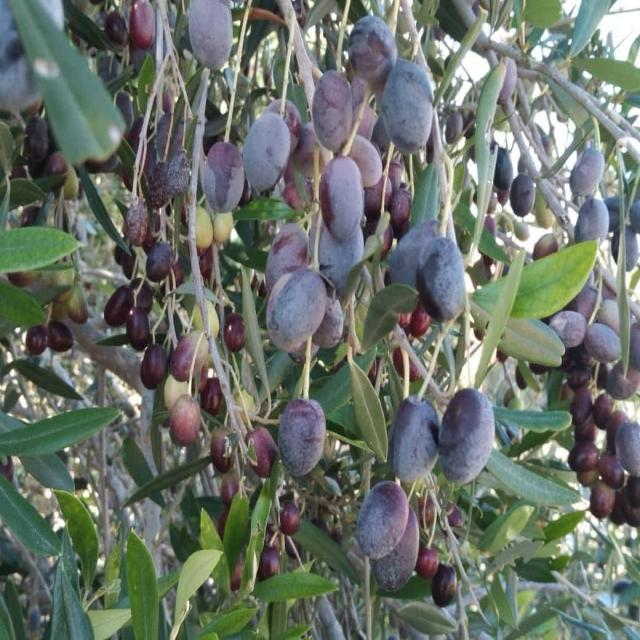Healthy: (568, 387, 639, 526), (438, 387, 495, 485), (266, 266, 327, 353), (378, 57, 433, 153), (387, 396, 440, 487), (356, 481, 411, 563), (415, 236, 465, 325), (242, 107, 294, 191), (311, 71, 363, 153), (319, 157, 364, 245), (278, 398, 326, 477), (202, 142, 244, 213), (543, 310, 587, 350), (104, 281, 136, 327), (140, 344, 167, 390), (431, 562, 457, 606), (126, 307, 150, 350), (223, 313, 246, 353)
